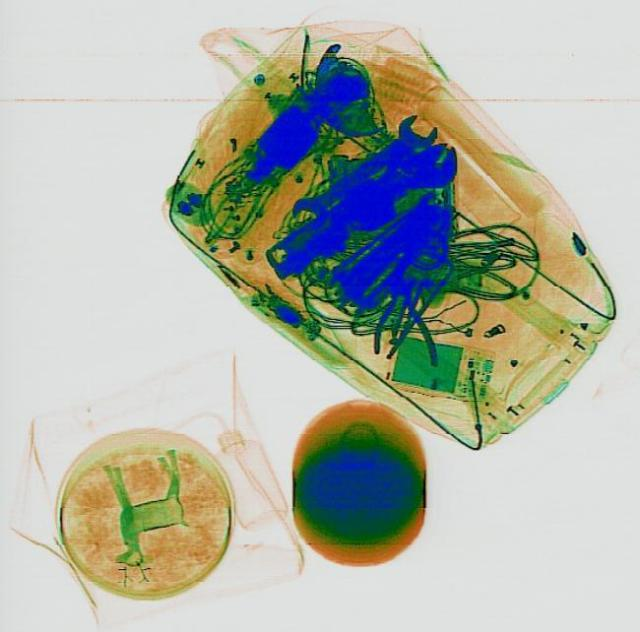Pliers: (370, 274, 438, 364)
Wrench: (284, 107, 441, 232)
